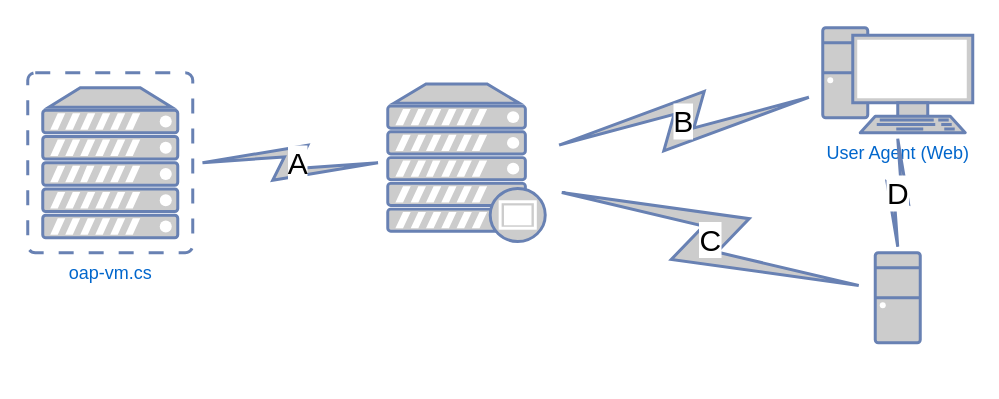
Image size: 999x399. Some labels were removed from this diagram. The centre of each missing label's shape, as x and y in pixels:
oap.cs (Traefik): (x=466, y=162)
Tank Controller: (x=897, y=297)
